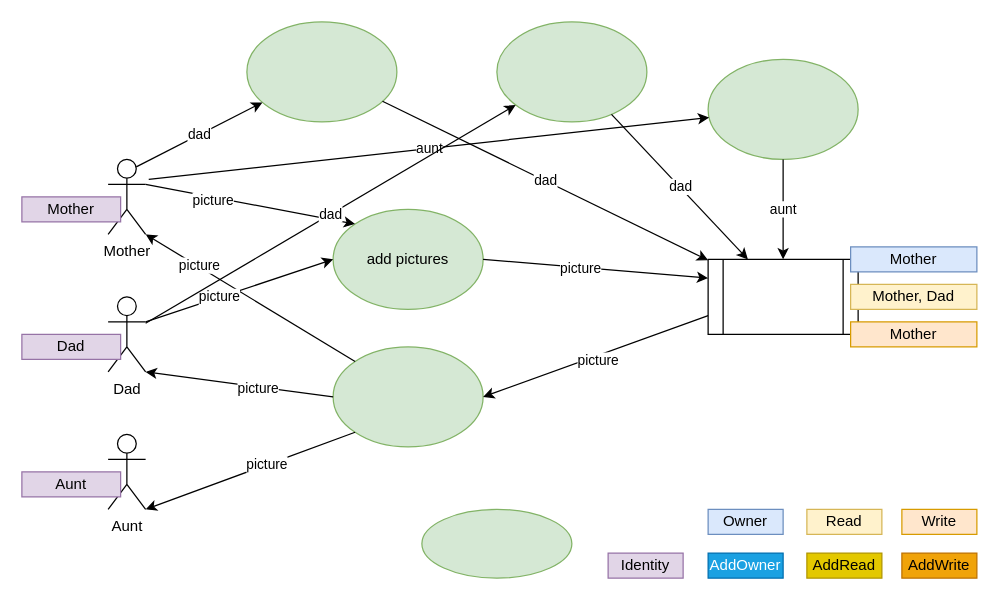
Some shapes in this 999 by 600 pixel diagram are drawn without their labels. Each missing label, with the centre of its shape:
"add owner" belongs at point 321,71.
"add read" belongs at point 782,108.
"add write" belongs at point 571,71.
"Famility Pictures" belongs at point 782,296.
"Forward" belongs at point 496,543.
"read pictures" belongs at point 407,396.
